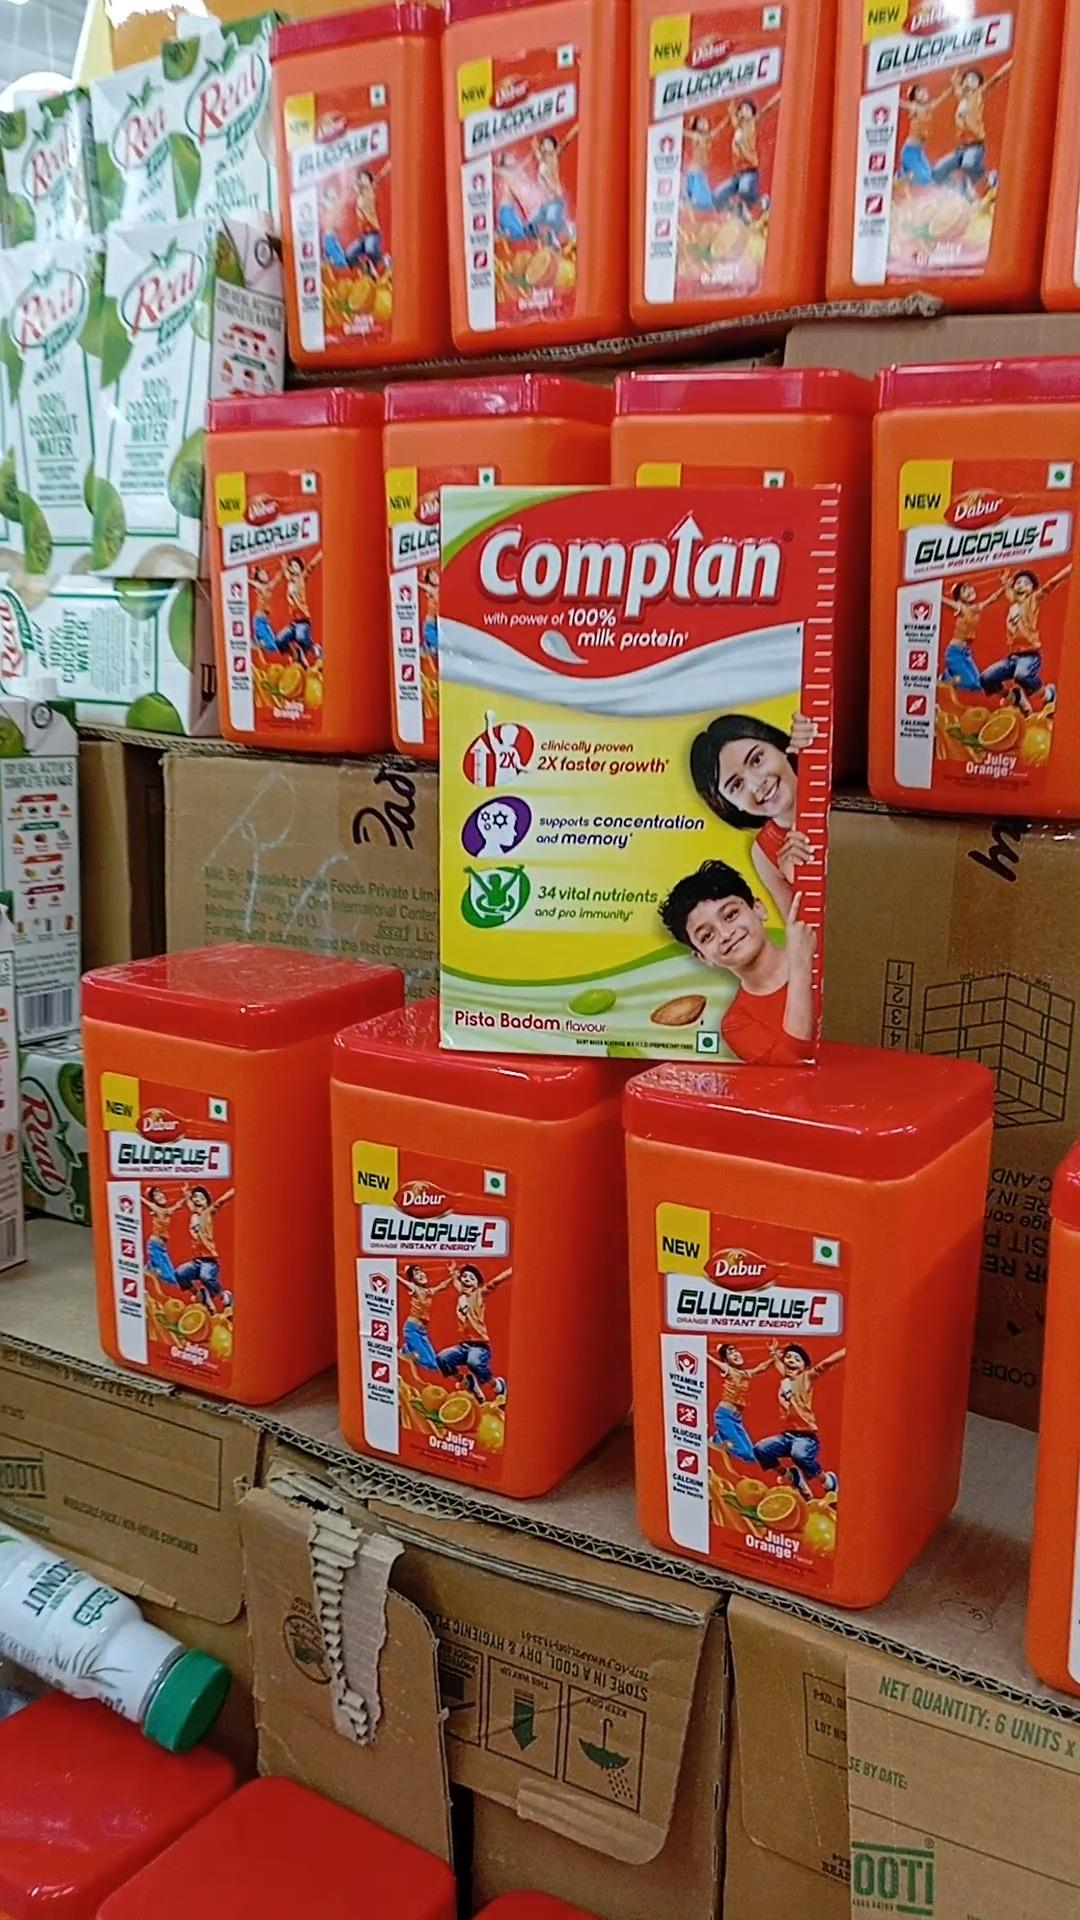COMPLAN_PISTA_BADAM_500_GMS_PACK: (436, 489, 814, 1058)
